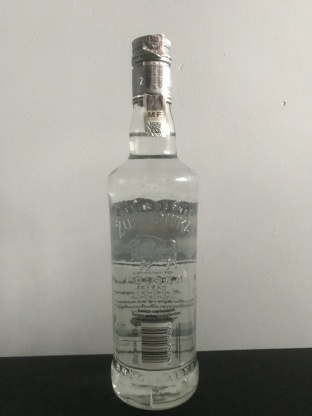nakretka: (129, 31, 174, 105)
